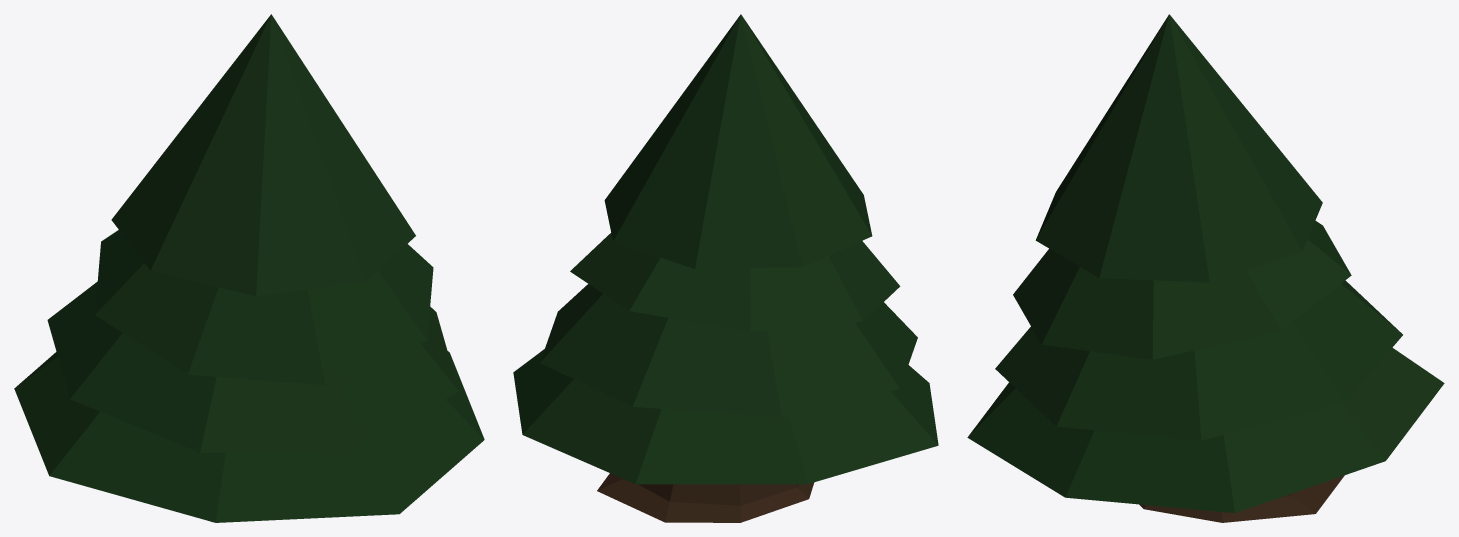
Rendered from pine1.fbx.
3 renders of one model, left to right at view 1: azimuth 30°, elevation 25°; view 2: azimuth 150°, elevation 25°; view 3: azimuth 270°, elevation 25°, orthographic. The views are drawn at different scales.
Parts seen in each view (by area): view 1: Cone.003; view 2: Cone.003; view 3: Cone.003.
Boxes of the visible parts, <box> form: Cone.003: <box>14,14,484,522</box>; Cone.003: <box>513,14,938,522</box>; Cone.003: <box>967,14,1444,522</box>.
Bounding box in the file's own units: 194 × 207 × 193.
